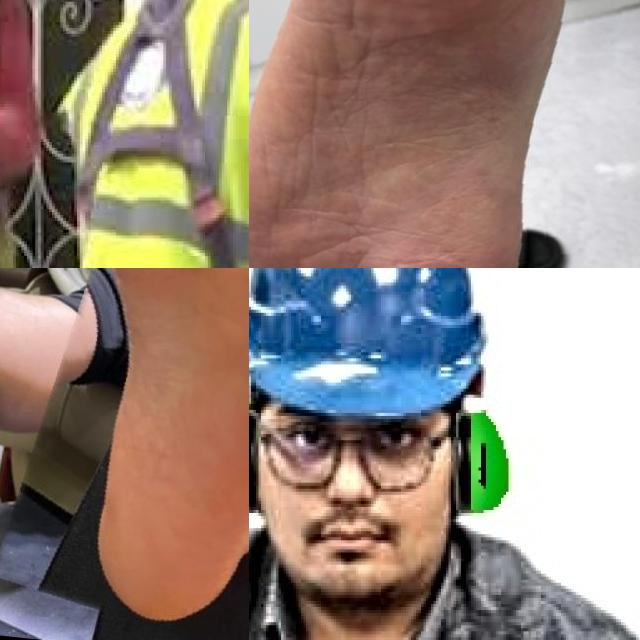Barefoots: (249, 0, 640, 268), (16, 268, 249, 640)
Ear-protection: (249, 399, 531, 525)
Harness: (62, 0, 249, 268)
head_helmet: (249, 268, 503, 420)
